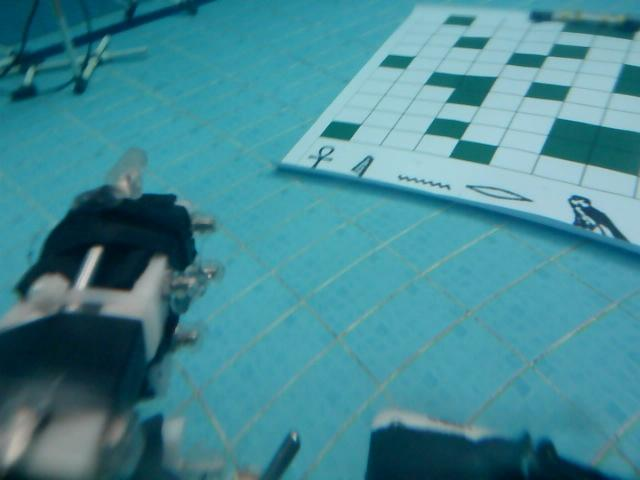Ankh: (302, 141, 341, 173)
Mouth: (464, 174, 532, 206)
Owl: (566, 184, 627, 250)
Reed: (346, 150, 378, 184)
Water: (396, 168, 451, 190)
